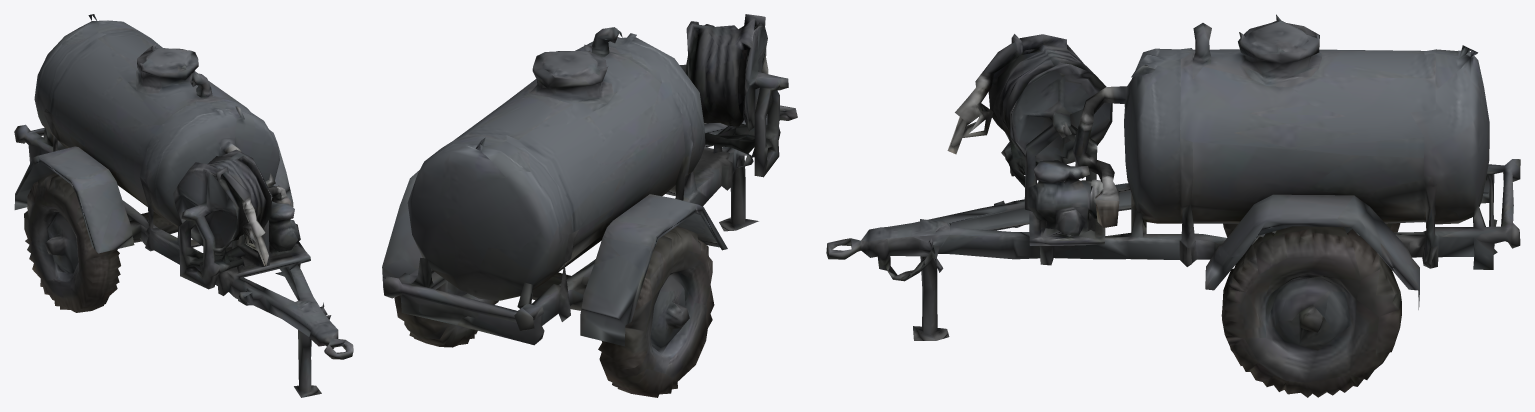
Rendered from prop_fuel_trailer.glb.
The picture shows the model from 3 angles, left to right: view 1: azimuth 30°, elevation 25°; view 2: azimuth 150°, elevation 25°; view 3: azimuth 270°, elevation 25°; orthographic projection. The views are drawn at different scales.
Visible parts, largest first — view 1: tripo_node_648f8f4d-4175-4ef7-9e13-02a9c833619a; view 2: tripo_node_648f8f4d-4175-4ef7-9e13-02a9c833619a; view 3: tripo_node_648f8f4d-4175-4ef7-9e13-02a9c833619a.
Part boxes in pixels (x1,y1,x2,y2): tripo_node_648f8f4d-4175-4ef7-9e13-02a9c833619a: (14, 14, 353, 397); tripo_node_648f8f4d-4175-4ef7-9e13-02a9c833619a: (382, 14, 797, 397); tripo_node_648f8f4d-4175-4ef7-9e13-02a9c833619a: (826, 14, 1520, 397).
Size of the model in its own units: 0.4541 by 0.4981 by 1.
1 material, 1 textured.
